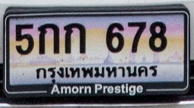num5: (13, 22, 34, 55)
txt01: (36, 22, 61, 56), (62, 22, 87, 55)
